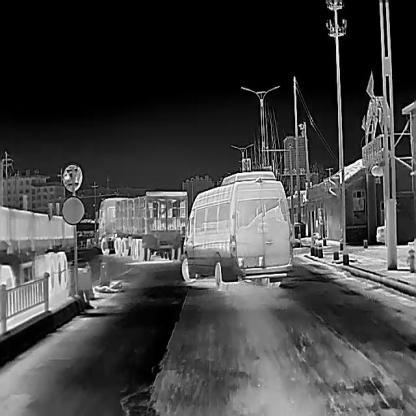car: (181, 171, 289, 289), (0, 204, 75, 301), (99, 191, 186, 260)
